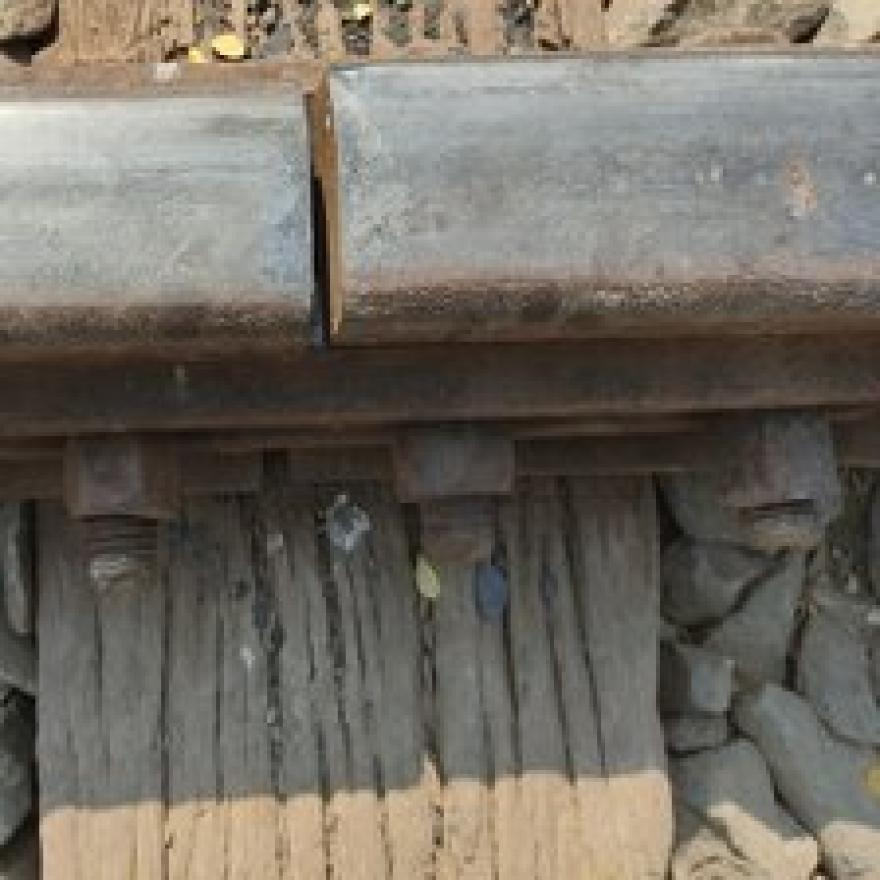railway-gap: (116, 39, 514, 398)
